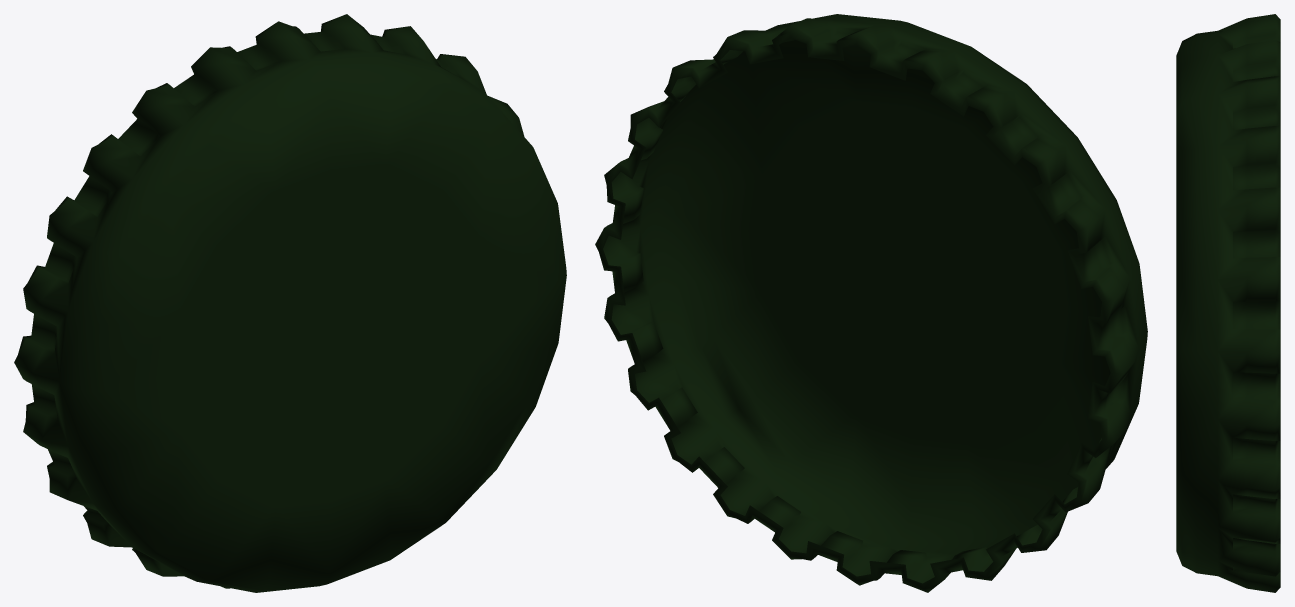
The picture shows the model from 3 angles, left to right: view 1: azimuth 30°, elevation 25°; view 2: azimuth 150°, elevation 25°; view 3: azimuth 270°, elevation 25°; orthographic projection. The views are drawn at different scales.
Bounding box in the file's own units: 0.1245 × 0.1245 × 0.0223.
